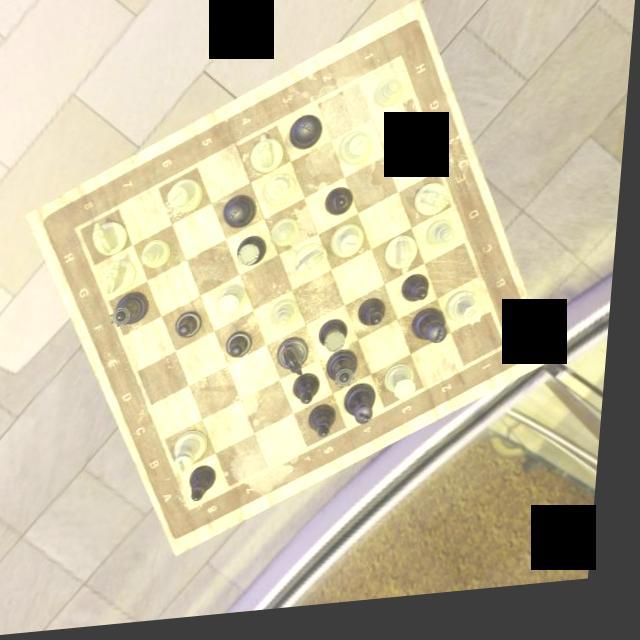chess-table-corners: (182, 497, 216, 523), (70, 222, 102, 248), (386, 57, 416, 83), (498, 342, 520, 368)
